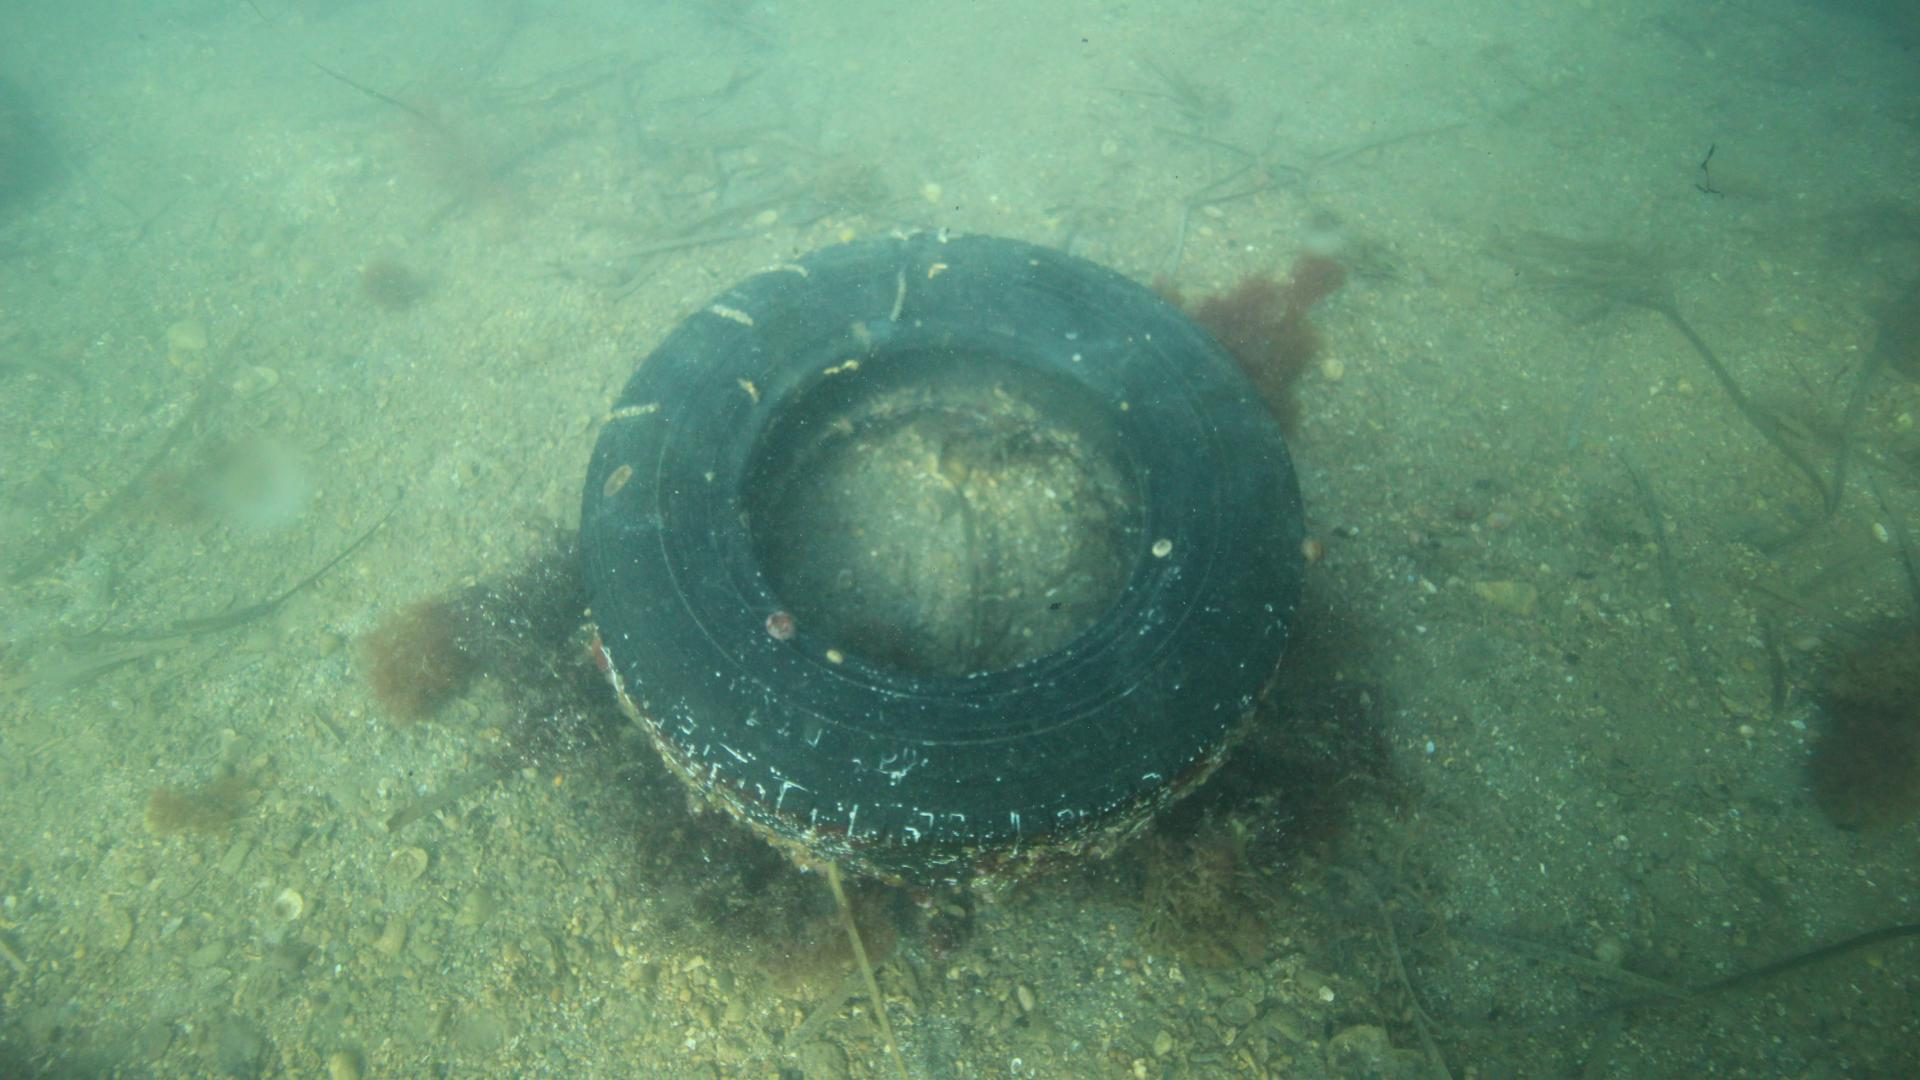tire: (582, 229, 1300, 891)
